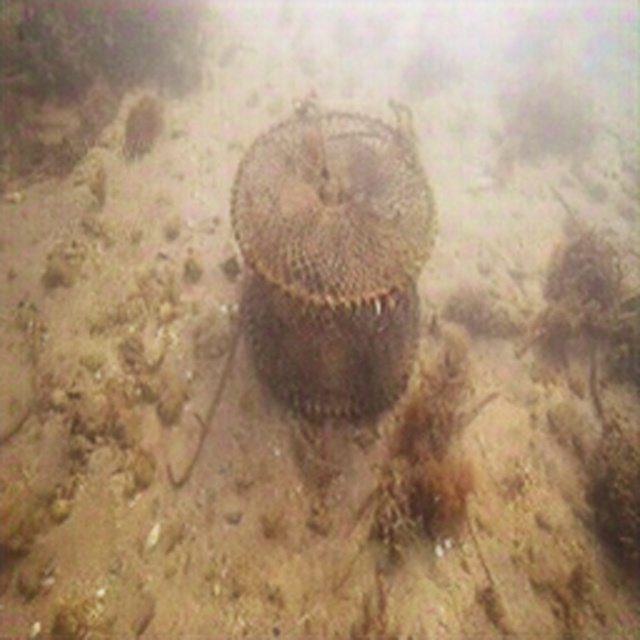mine: (229, 107, 438, 420)
